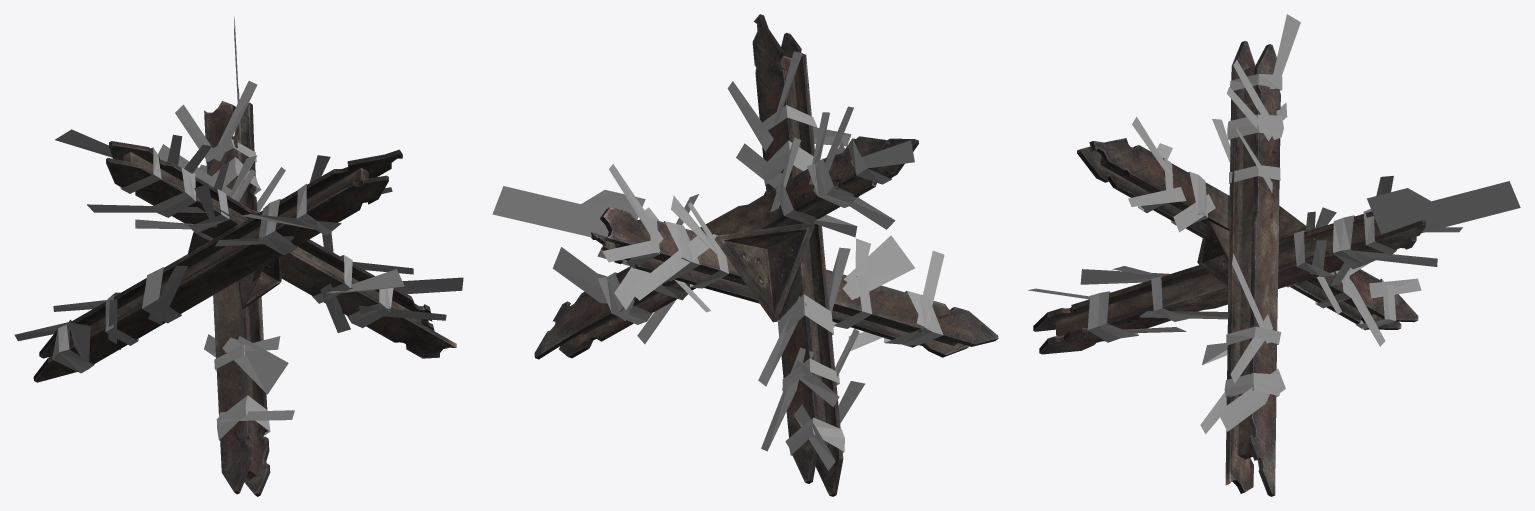
File: anti_tank_barrier.obj
3 views of the same model, side by side, from view 1: azimuth 30°, elevation 25°; view 2: azimuth 150°, elevation 25°; view 3: azimuth 270°, elevation 25° (orthographic). The views are drawn at different scales.
Visible parts, largest first — view 1: 413_anti_tank_barrier_02, 413_anti_tank_barrier_01; view 2: 413_anti_tank_barrier_02, 413_anti_tank_barrier_01; view 3: 413_anti_tank_barrier_02, 413_anti_tank_barrier_01.
Part boxes in pixels (x1,y1,x2,y2): 413_anti_tank_barrier_02: (33, 101, 456, 496); 413_anti_tank_barrier_01: (14, 17, 463, 440); 413_anti_tank_barrier_02: (534, 14, 998, 496); 413_anti_tank_barrier_01: (492, 51, 944, 470); 413_anti_tank_barrier_02: (1033, 41, 1425, 496); 413_anti_tank_barrier_01: (1028, 14, 1520, 434).
Size of the model in its own units: 75.84 by 57.89 by 84.4.
